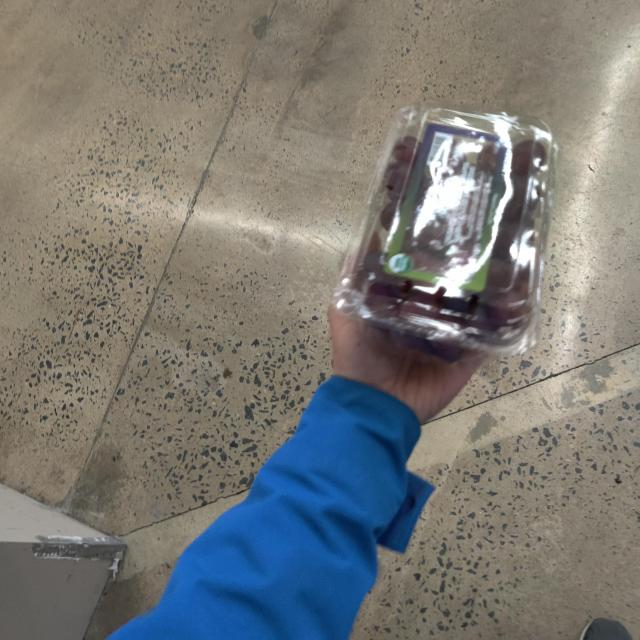Grapes: (340, 104, 555, 360)
